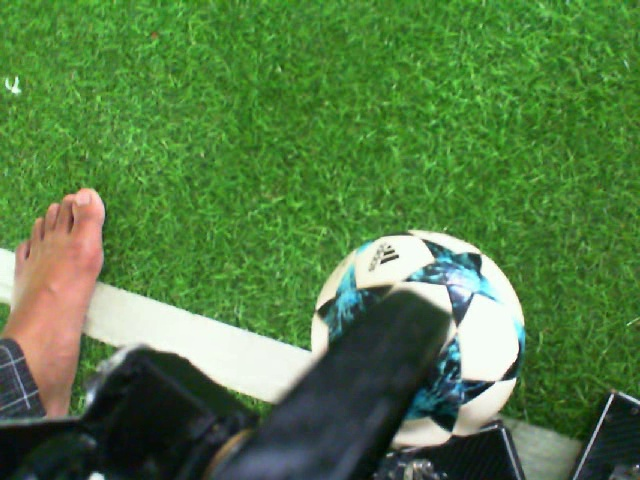ball: (309, 227, 528, 446)
